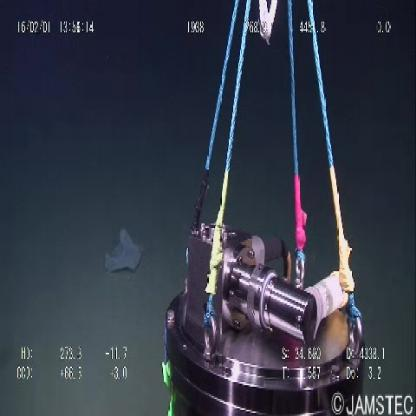Rov: (160, 1, 367, 414)
Rác: (101, 223, 144, 280)
